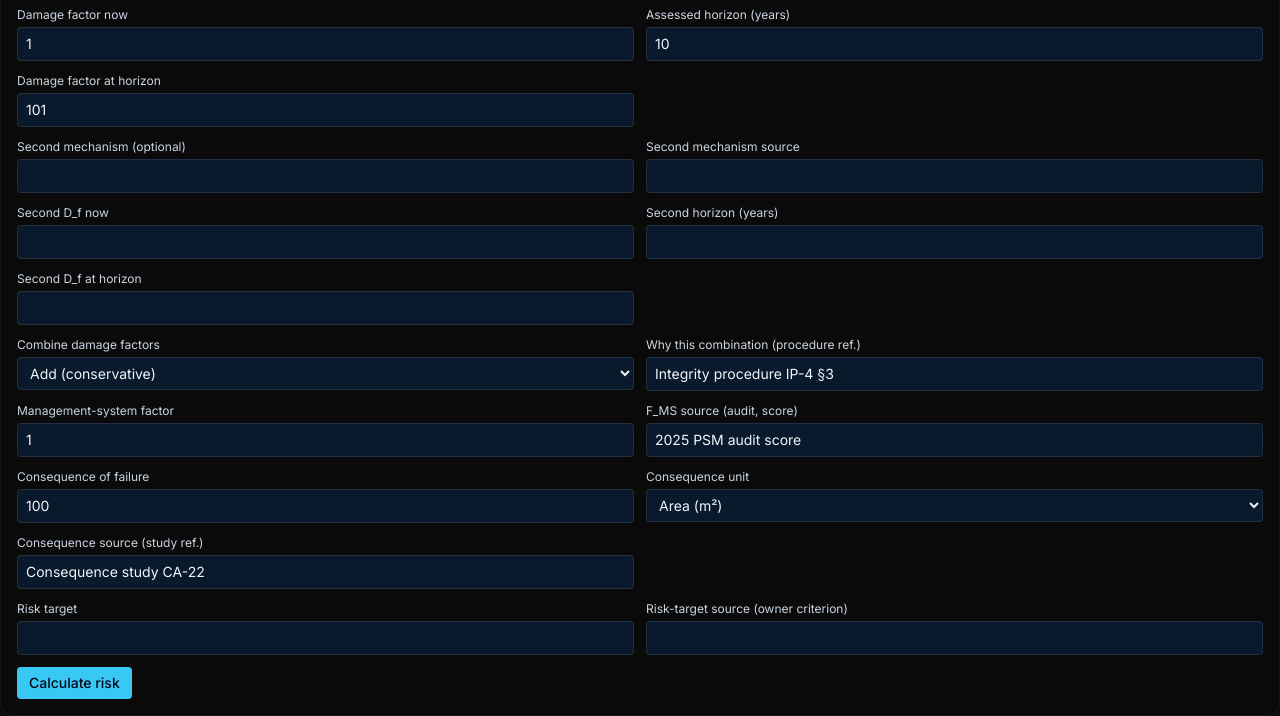
Test case: RbiPlanner › offers no interval when risk is already over target
Earlier steps of the test are not shown.
(page scrolled)
Type "0.001" into the number field labelled "Risk target" at (326, 638), box [17, 621, 634, 655]
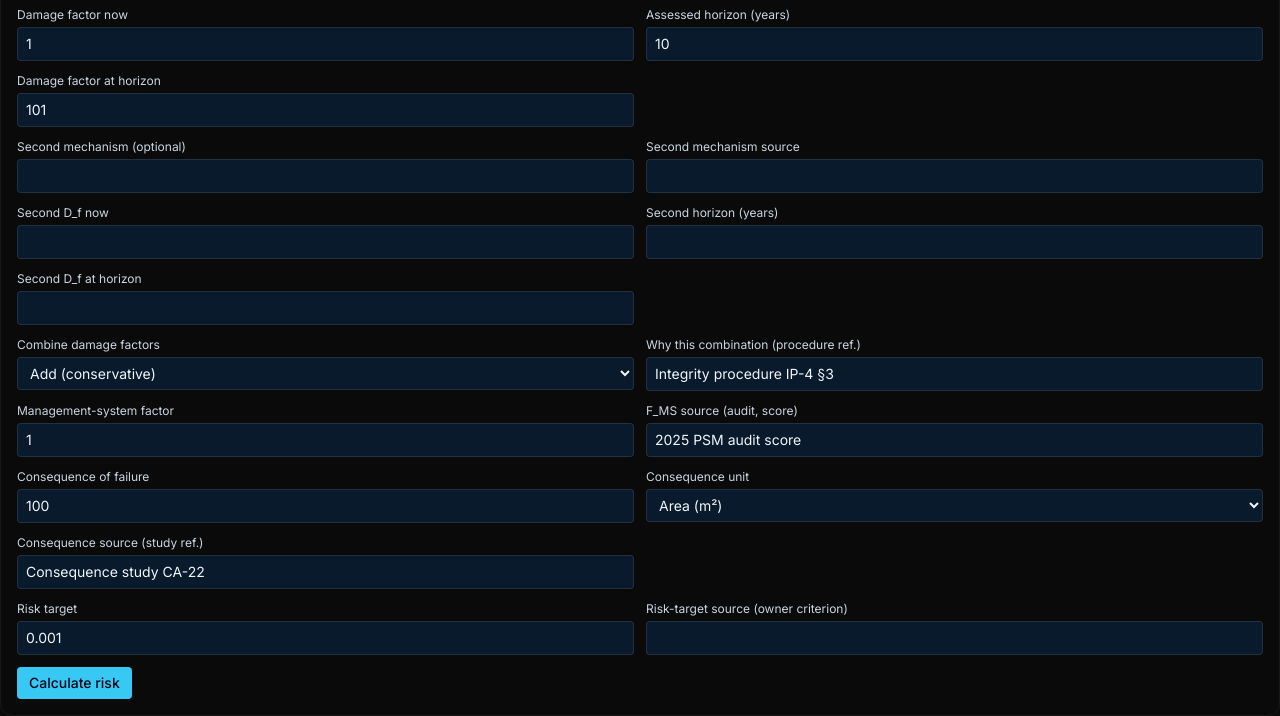
Type "Integrity risk target IRT-1" into the field labelled "Risk-target source (owner criterion)" at (954, 638), box [646, 621, 1263, 655]
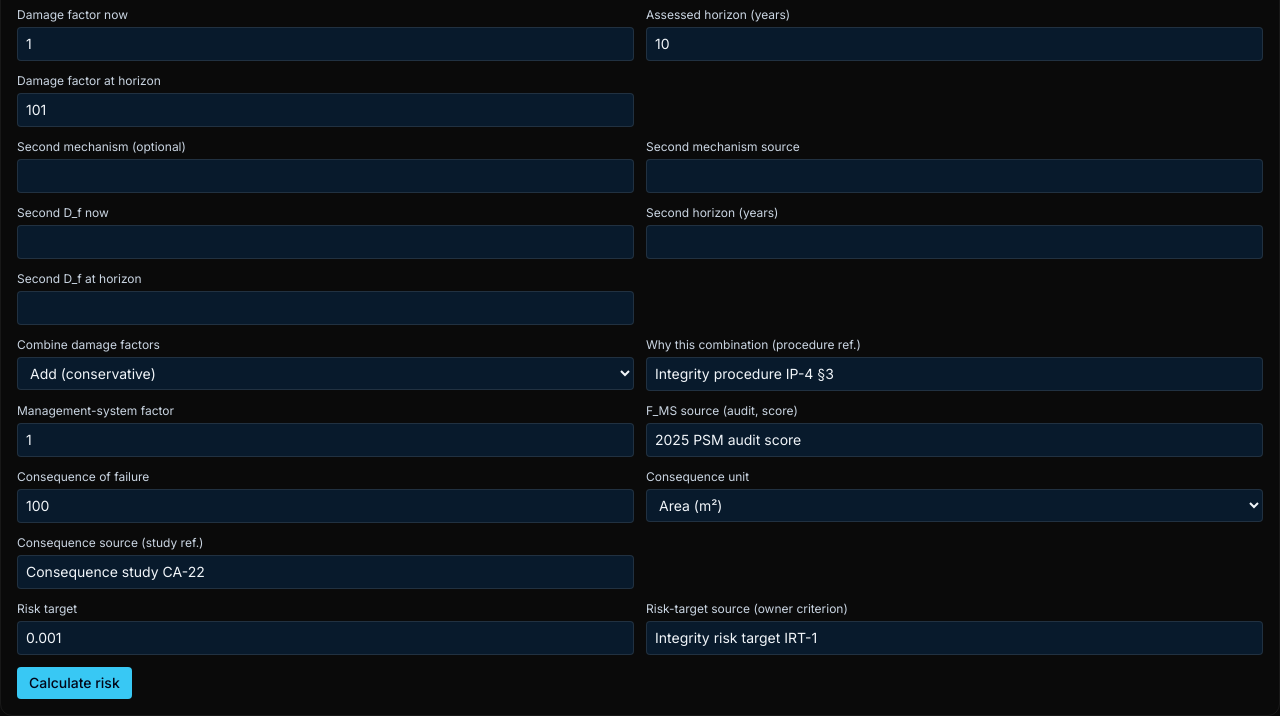
Click the button "Calculate risk" at (74, 683), box [17, 667, 132, 699]
(page scrolled)
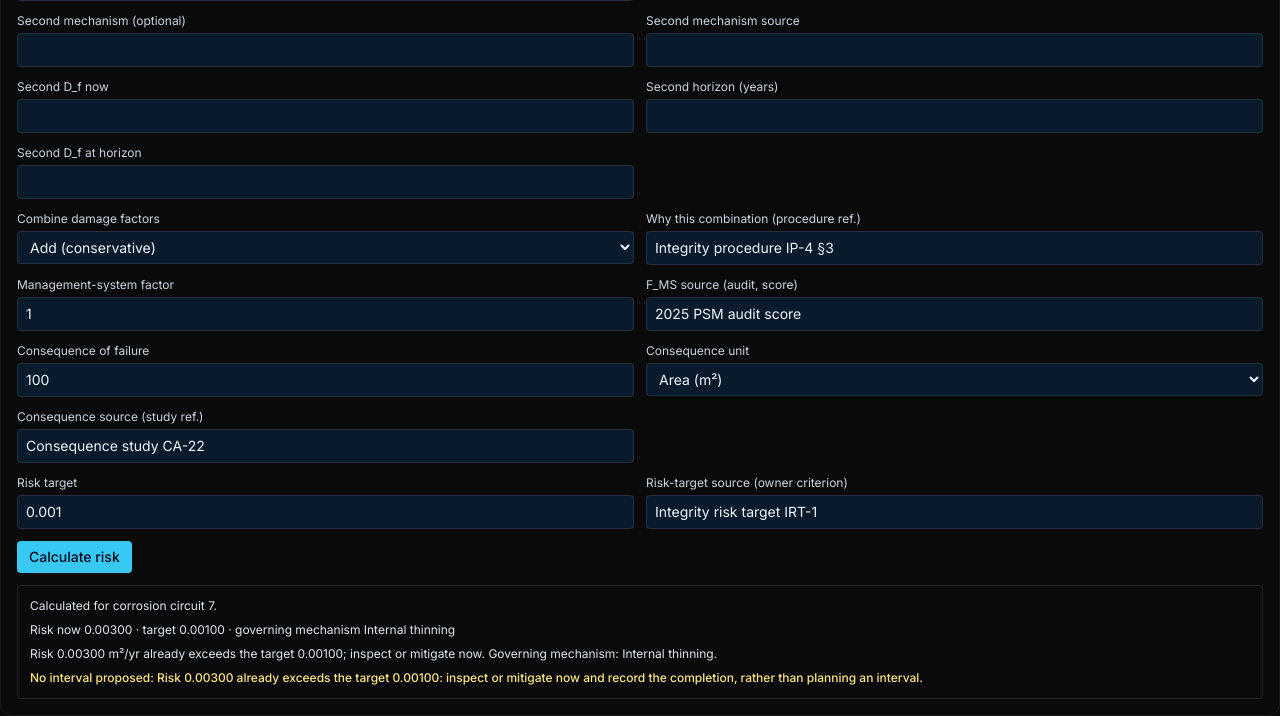
Now the text "No interval proposed" is shown, box [30, 670, 157, 685]
